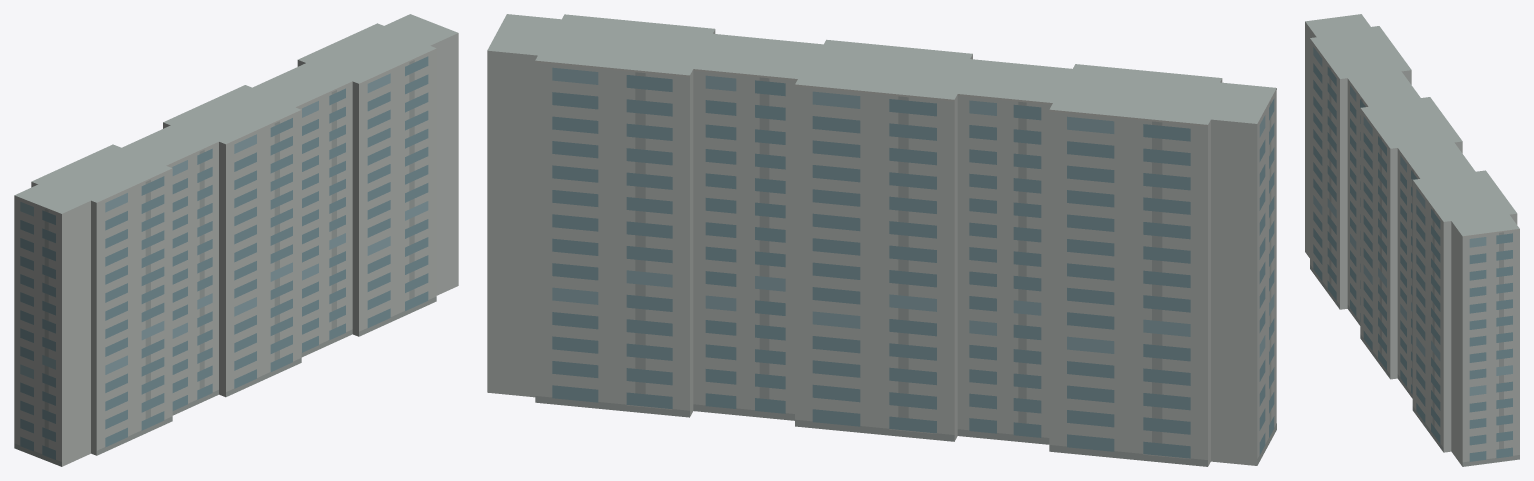
File: residential-ccfe6f58-c71f-4718-99e3-66086cb9eba0.glb
The picture shows the model from 3 angles, left to right: view 1: azimuth 30°, elevation 25°; view 2: azimuth 150°, elevation 25°; view 3: azimuth 270°, elevation 25°; orthographic projection. The views are drawn at different scales.
Visible parts, largest first — view 1: residential-ccfe6f58-c71f-4718-99e3-66086cb9eba0.tmp; view 2: residential-ccfe6f58-c71f-4718-99e3-66086cb9eba0.tmp; view 3: residential-ccfe6f58-c71f-4718-99e3-66086cb9eba0.tmp.
Boxes of the visible parts, x1,y1,x2,y2 form: residential-ccfe6f58-c71f-4718-99e3-66086cb9eba0.tmp: (14, 14, 458, 466); residential-ccfe6f58-c71f-4718-99e3-66086cb9eba0.tmp: (487, 14, 1276, 466); residential-ccfe6f58-c71f-4718-99e3-66086cb9eba0.tmp: (1305, 14, 1519, 466).
Bounding box in the file's own units: 88.26 × 42.7 × 36.04.
